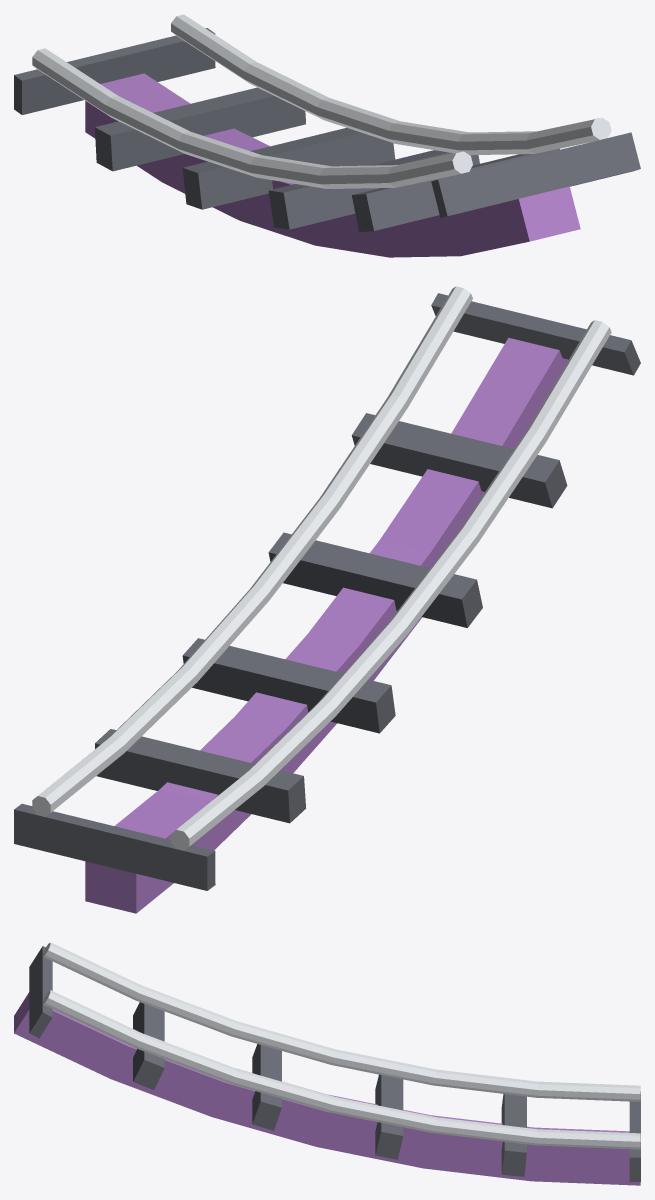
File: theme-park-rides-and-coasters-theme-park-rides-and-coa-cc2f6f15__28622.glb
3 renders of one model, top to bottom at view 1: azimuth 30°, elevation 25°; view 2: azimuth 150°, elevation 25°; view 3: azimuth 270°, elevation 25°, orthographic. The views are drawn at different scales.
Visible parts, largest first — view 1: theme-park-rides-and-coasters-track-transition-up; view 2: theme-park-rides-and-coasters-track-transition-up; view 3: theme-park-rides-and-coasters-track-transition-up.
Part boxes in pixels (x1,y1,x2,y2): theme-park-rides-and-coasters-track-transition-up: [14, 14, 640, 257]; theme-park-rides-and-coasters-track-transition-up: [14, 286, 640, 913]; theme-park-rides-and-coasters-track-transition-up: [14, 942, 640, 1185].
Bounding box in the file's own units: 1.06 × 1.56 × 4.22.
